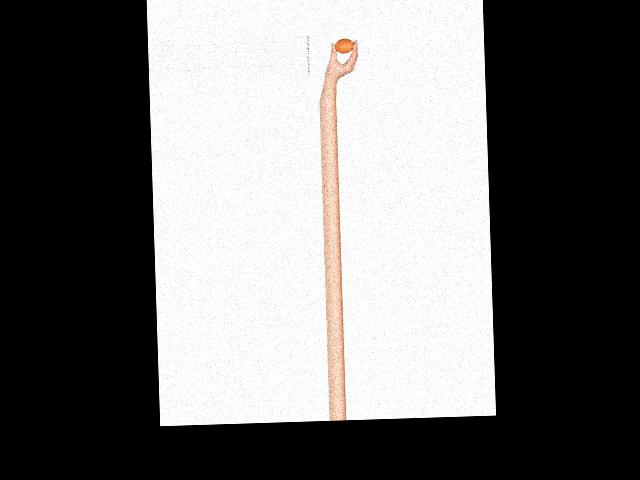egg: (334, 38, 354, 53)
